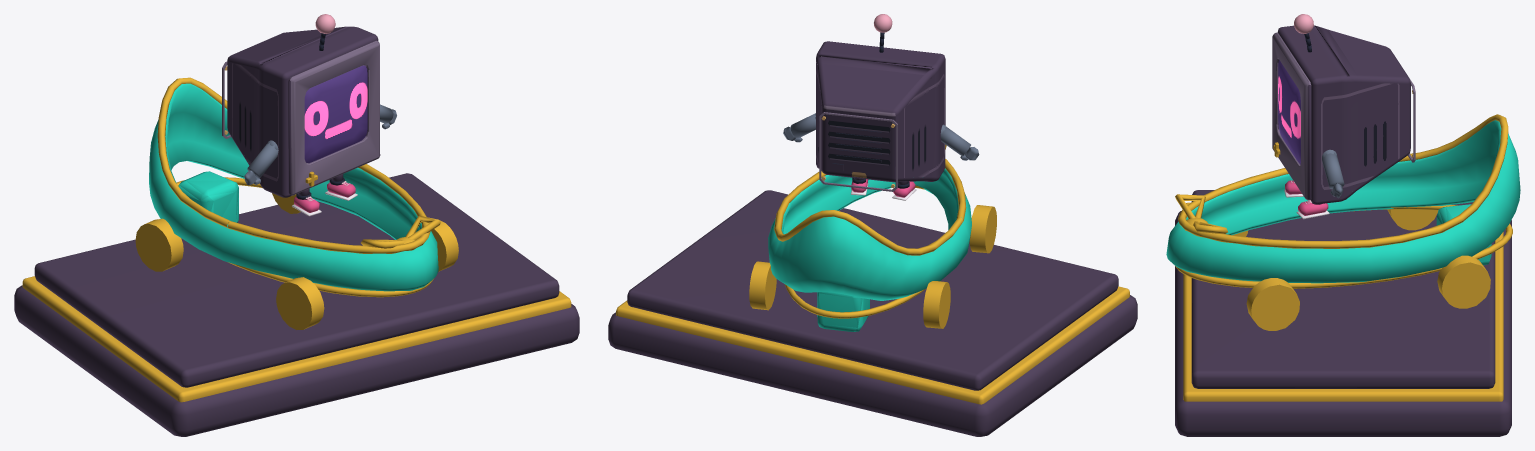
The model's file is kart.body.glass-slipper.glb.
3 renders of one model, left to right at view 1: azimuth 30°, elevation 25°; view 2: azimuth 150°, elevation 25°; view 3: azimuth 270°, elevation 25°, orthographic. The views are drawn at different scales.
Visible parts, largest first — view 1: stand_display_top, emi_teacup_mesh, stand_display_base, slipper_shell, stand_brass_band, rolled_crystal_rim, wheel.003, slipper_heel, wheel.002, shoe_welt, wheel.001; view 2: stand_display_top, emi_teacup_mesh, stand_display_base, slipper_shell, stand_brass_band, rolled_crystal_rim, slipper_heel, wheel.002, wheel.003, wheel, shoe_welt; view 3: stand_display_top, slipper_shell, emi_teacup_mesh, stand_display_base, stand_brass_band, rolled_crystal_rim, wheel.001, wheel, shoe_welt, wheel.002, slipper_heel, slipper_bow.001.
Part boxes in pixels (x1,y1,x2,y2): stand_display_top: (34,173,559,387); emi_teacup_mesh: (222,14,396,216); stand_display_base: (14,285,579,436); slipper_shell: (149,83,438,291); stand_brass_band: (22,276,571,402); rolled_crystal_rim: (157,77,430,253); wheel.003: (276,277,324,329); slipper_heel: (178,171,238,222); wheel.002: (135,218,183,271); shoe_welt: (176,177,433,297); wheel.001: (431,219,458,271); stand_display_top: (627,190,1118,390); emi_teacup_mesh: (783,14,979,200); stand_display_base: (608,295,1137,436); slipper_shell: (768,168,971,300); stand_brass_band: (616,286,1129,404); rolled_crystal_rim: (774,159,966,255); slipper_heel: (817,292,869,331); wheel.002: (923,281,950,328); wheel.003: (969,205,996,253); wheel: (749,261,776,310); shoe_welt: (784,185,925,318); stand_display_top: (1191,190,1495,388); slipper_shell: (1166,120,1520,283); emi_teacup_mesh: (1272,14,1415,219); stand_display_base: (1175,211,1511,436); stand_brass_band: (1183,202,1503,401); rolled_crystal_rim: (1178,114,1508,248); wheel.001: (1246,278,1299,330); wheel: (1437,255,1490,308); shoe_welt: (1175,205,1512,288); wheel.002: (1387,209,1438,230); slipper_heel: (1436,204,1491,265); slipper_bow.001: (1175,194,1205,218).
Size of the model in its own units: 0.64 by 0.4959 by 0.48.
Materials: 4 (2 with a texture image).
